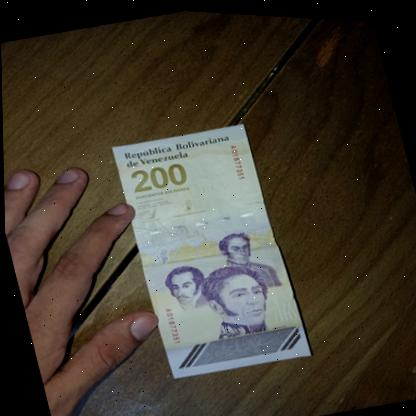two_hundred-front-vef: (110, 112, 311, 385)
